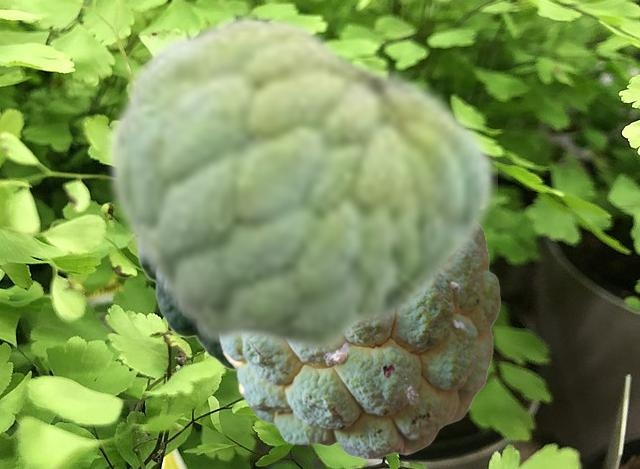atis: (102, 9, 496, 358), (218, 231, 499, 458)
